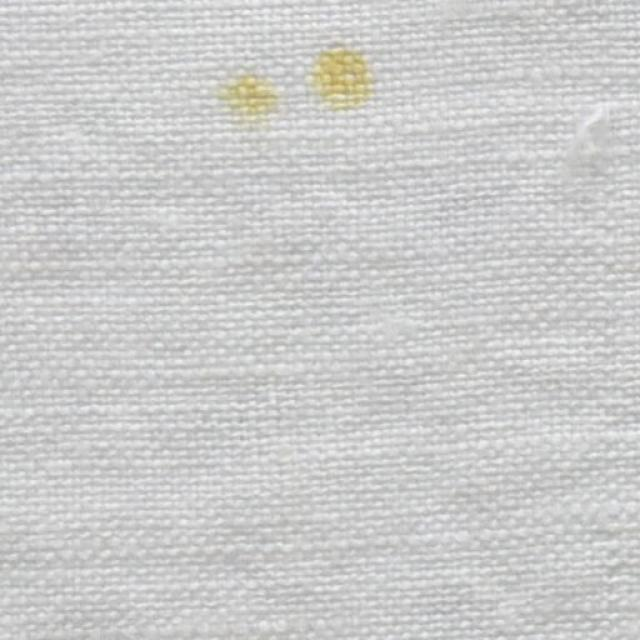Thread_other: (150, 0, 430, 213)
